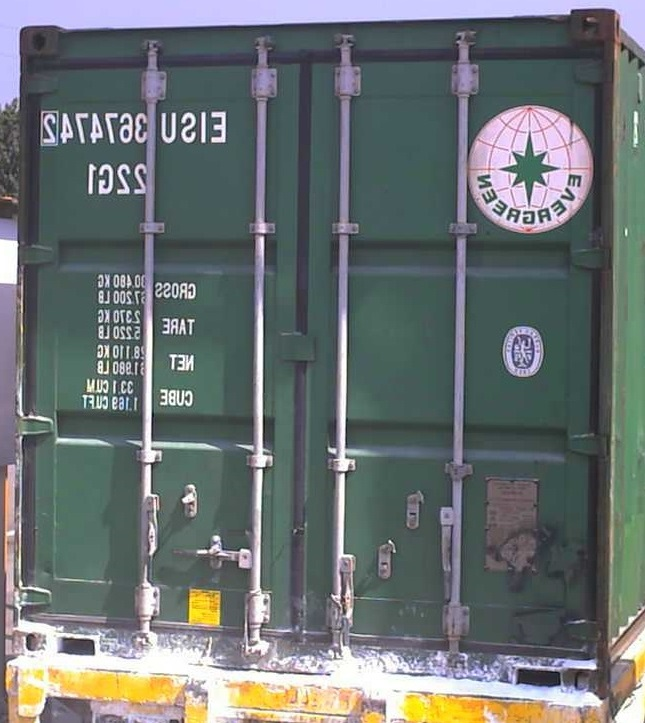container_door: (18, 11, 607, 703)
